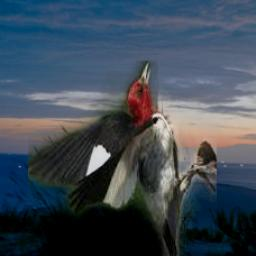Woodpecker: (28, 61, 217, 256)
